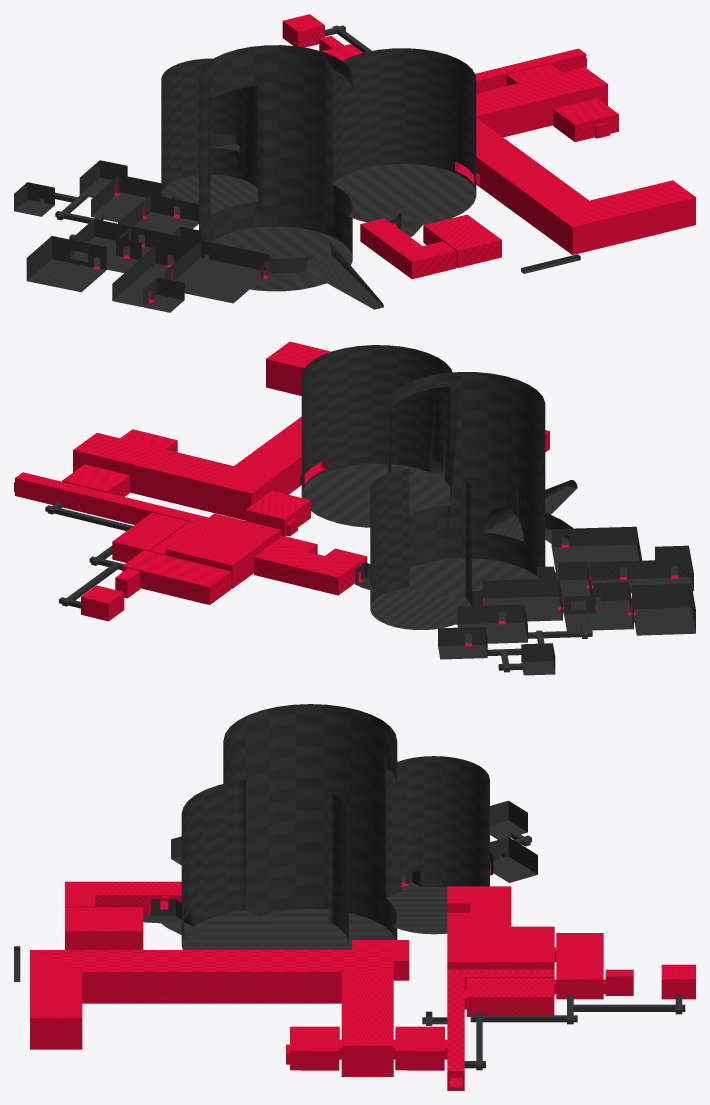
Rendered from clean_level_mesh.fbx.
3 views of the same model, one above another, from view 1: azimuth 30°, elevation 25°; view 2: azimuth 150°, elevation 25°; view 3: azimuth 270°, elevation 25° (orthographic). The views are drawn at different scales.
Visible parts, largest first — view 1: CSGBakedMeshInstance3D; view 2: CSGBakedMeshInstance3D; view 3: CSGBakedMeshInstance3D.
Part boxes in pixels (x1,y1,x2,y2): CSGBakedMeshInstance3D: [14, 14, 695, 312]; CSGBakedMeshInstance3D: [14, 341, 695, 675]; CSGBakedMeshInstance3D: [14, 704, 695, 1090].
Size of the model in its own units: 18289 by 5344 by 15700.
